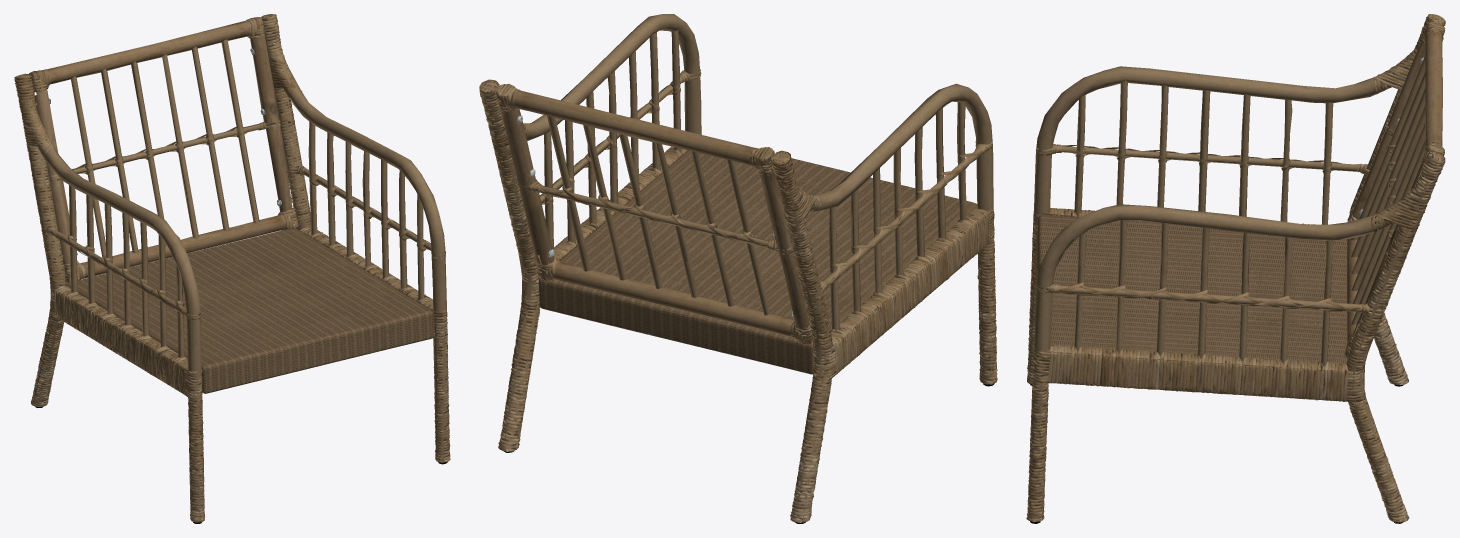
The picture shows the model from 3 angles, left to right: view 1: azimuth 30°, elevation 25°; view 2: azimuth 150°, elevation 25°; view 3: azimuth 270°, elevation 25°; orthographic projection. The views are drawn at different scales.
Visible parts, largest first — view 1: 1; view 2: 1; view 3: 1.
Boxes of the visible parts, left/top/right/bottom form: 1: left=14, top=14, right=450, bottom=523; 1: left=479, top=14, right=997, bottom=523; 1: left=1026, top=14, right=1445, bottom=523.
Size of the model in its own units: 0.6219 by 0.7329 by 0.754.
Materials: 2 (2 with a texture image).
